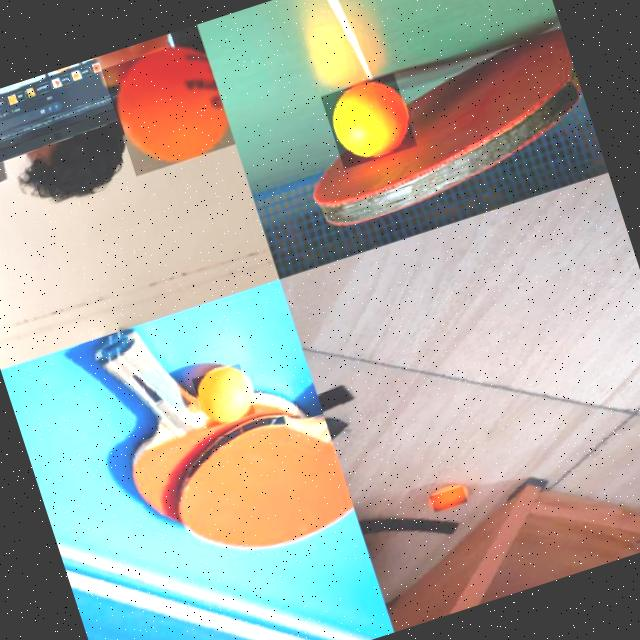ping-pong-ball: (100, 35, 234, 177), (320, 70, 418, 168), (190, 361, 256, 428), (428, 484, 468, 512)
